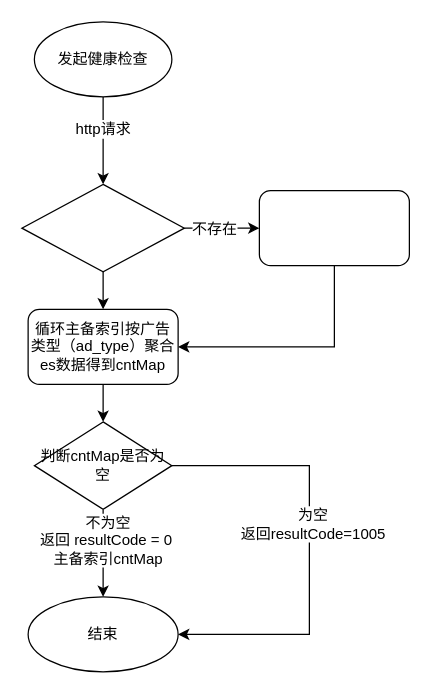
The diagram is 431 pixels wide and 694 high, and some of its shapes have lost their labels. Each missing label, with the centre of its shape:
根据内存主备索引资源数据建立主备索引: (x=333, y=227)
检查es服务 主备索引是否存在 主：ad_index 备：ad_index_back: (x=102, y=227)
